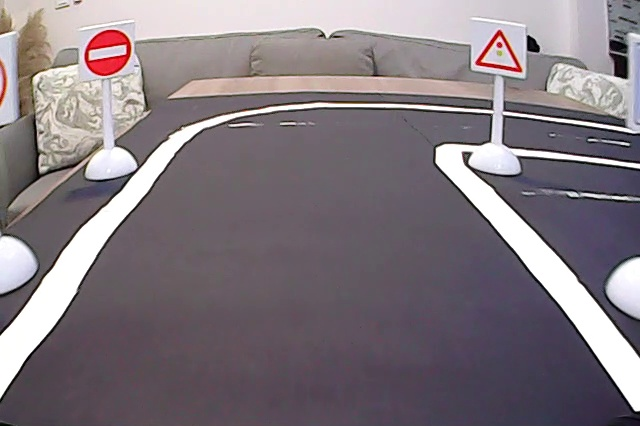do not enter: (82, 27, 134, 79)
red light: (472, 25, 525, 76)
